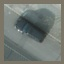car: (12, 16, 48, 44)
